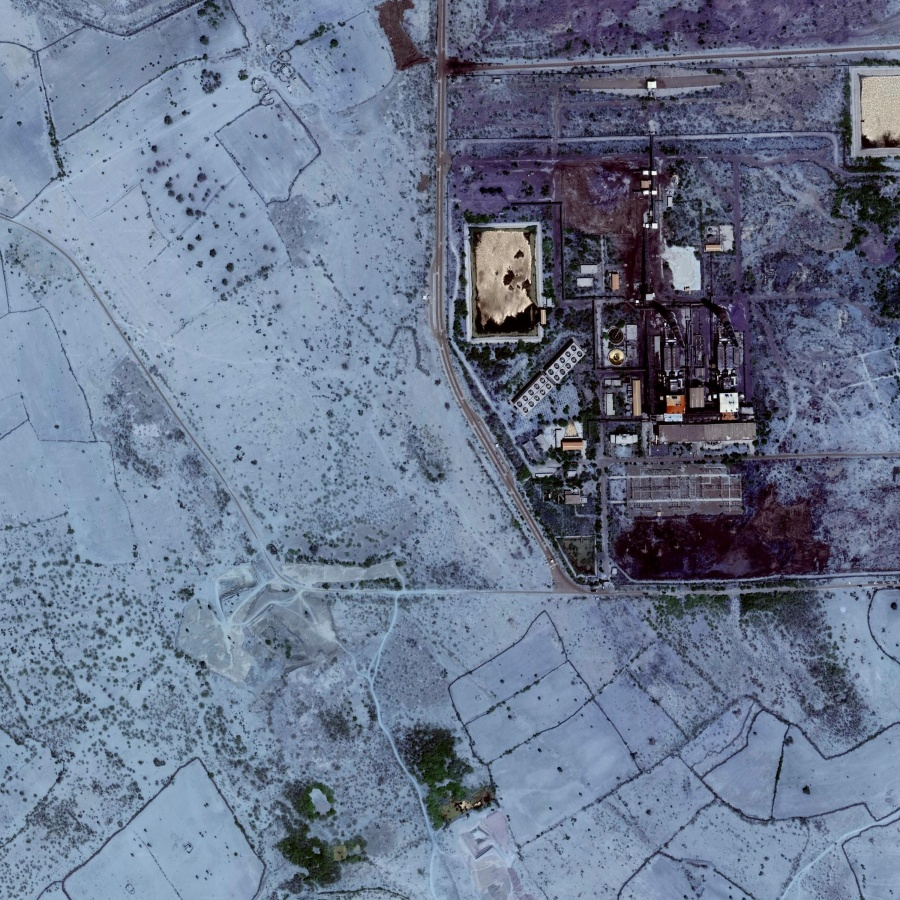PowerPlant: (452, 139, 822, 577)
